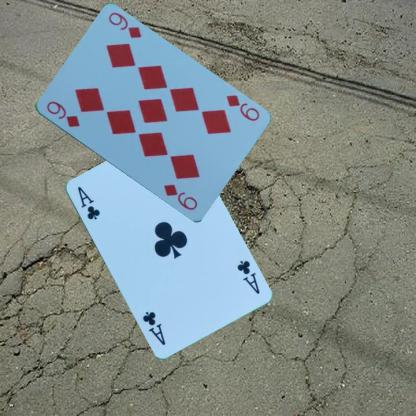9d: (43, 98, 81, 129), (223, 92, 261, 122)
Ac: (234, 257, 261, 295), (75, 184, 101, 220)
